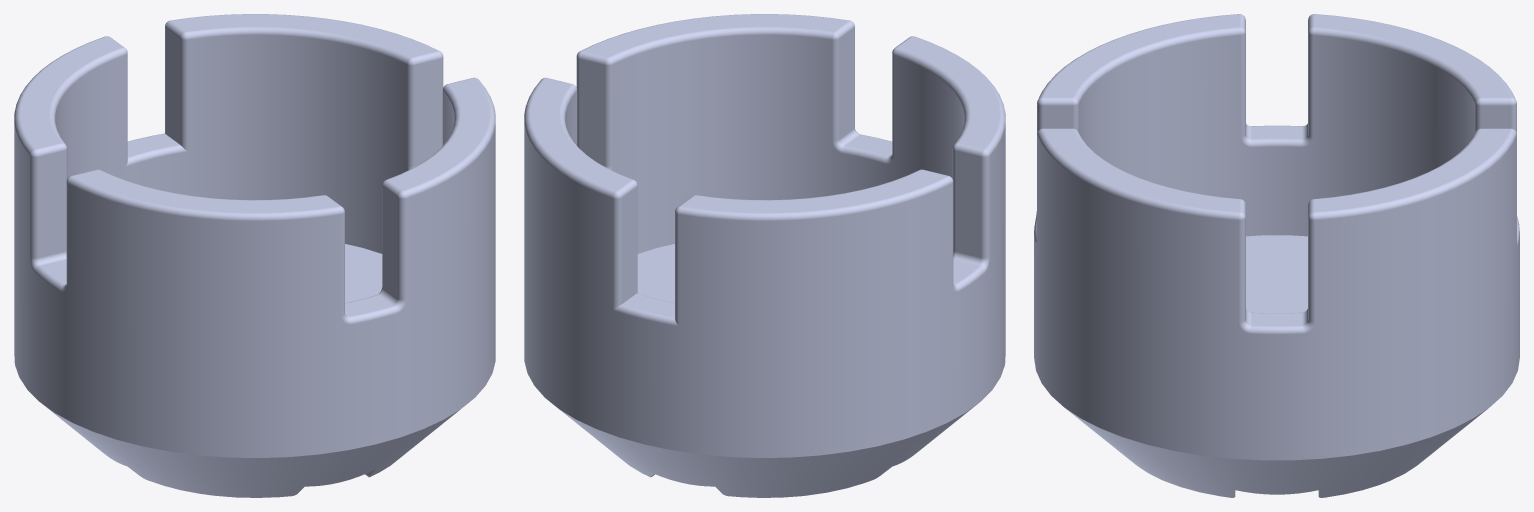
Rendered from Cup Holder TOP.gltf.
The picture shows the model from 3 angles, left to right: view 1: azimuth 30°, elevation 25°; view 2: azimuth 150°, elevation 25°; view 3: azimuth 270°, elevation 25°; orthographic projection.
Visible parts, largest first — view 1: Cup Holder TOP; view 2: Cup Holder TOP; view 3: Cup Holder TOP.
Boxes of the visible parts, bbox=[...] form: Cup Holder TOP: bbox=[14, 14, 495, 497]; Cup Holder TOP: bbox=[524, 14, 1005, 497]; Cup Holder TOP: bbox=[1034, 14, 1519, 497].
Size of the model in its own units: 0.1169 by 0.085 by 0.117.
